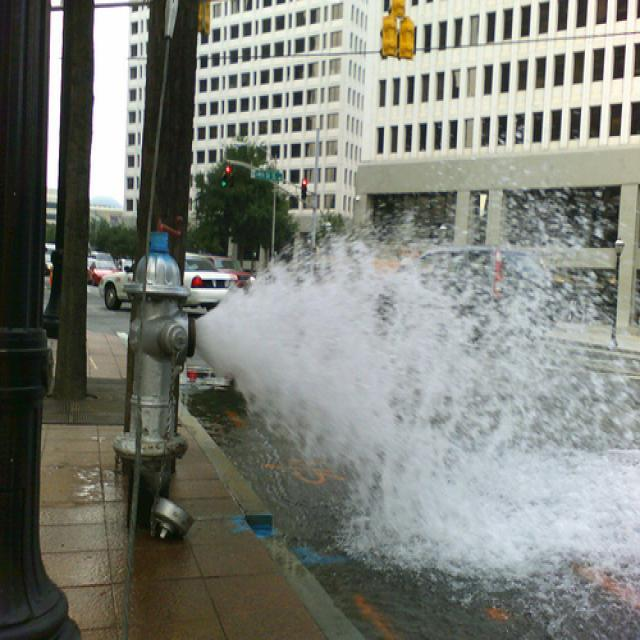Vehicle: (378, 251, 557, 345), (98, 252, 238, 310), (200, 255, 252, 285), (88, 260, 120, 286), (114, 259, 135, 271)
